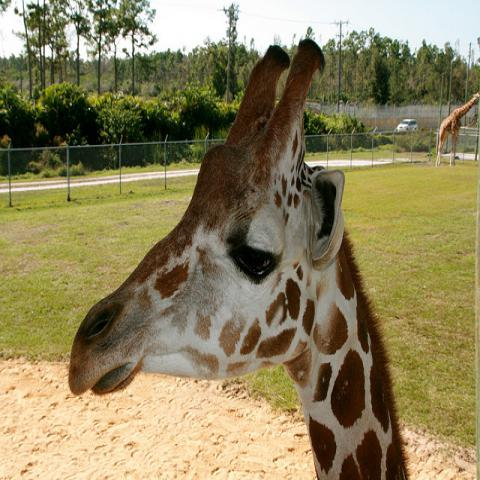car: (396, 119, 417, 132)
